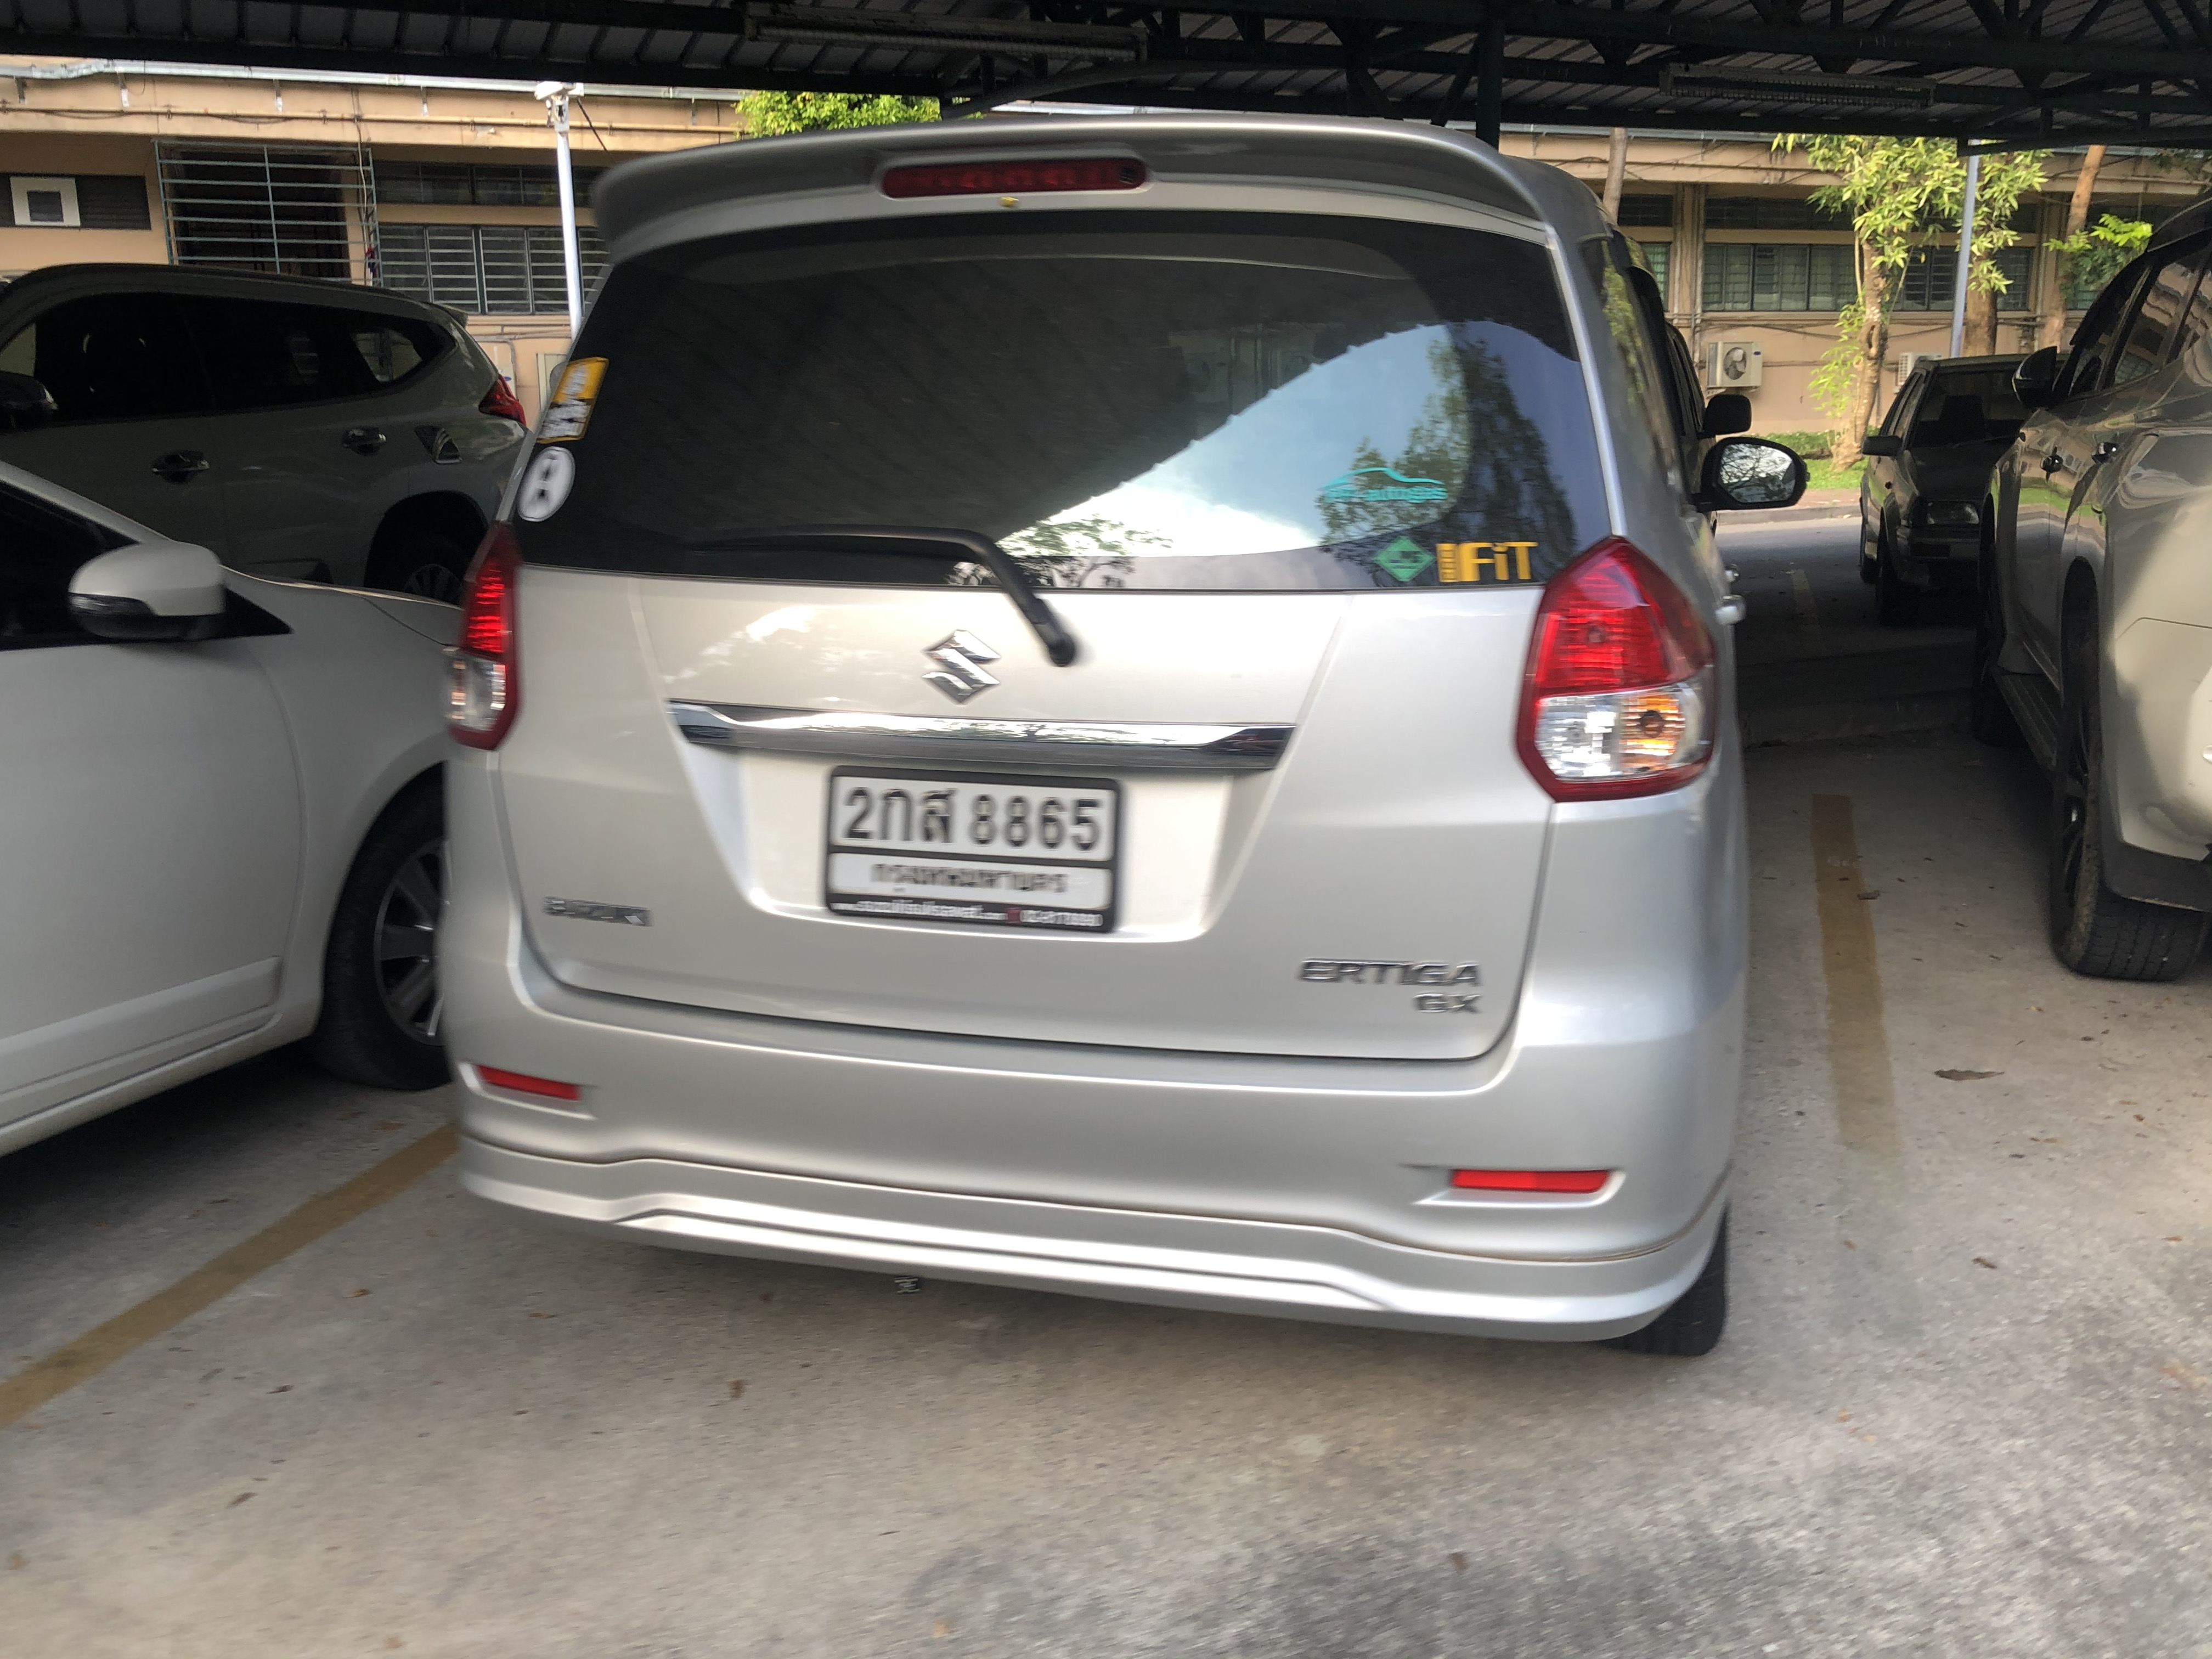in: (834, 781, 1111, 903)
out: (824, 763, 1127, 938)
